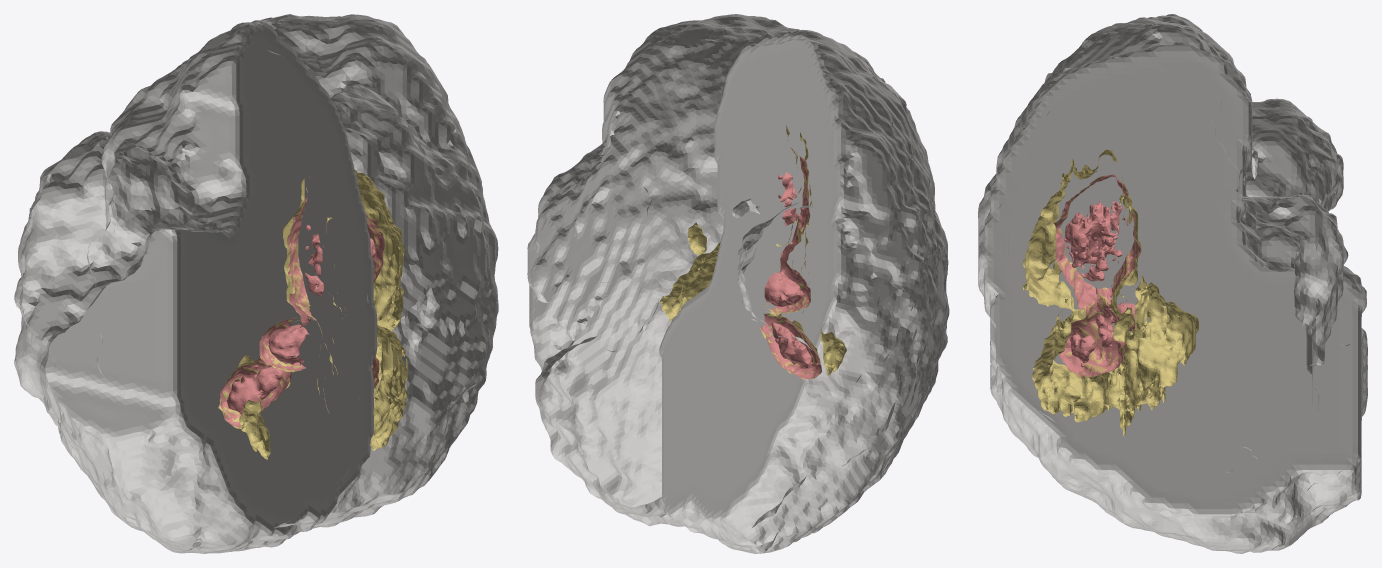
The picture shows the model from 3 angles, left to right: view 1: azimuth 30°, elevation 25°; view 2: azimuth 150°, elevation 25°; view 3: azimuth 270°, elevation 25°; orthographic projection. The views are drawn at different scales.
Visible parts, largest first — view 1: brain_left, brain_right, edema, enhancing, core; view 2: brain_left, brain_right, enhancing, edema, core; view 3: brain_right, edema, brain_left, enhancing, core.
Boxes of the visible parts, x1,y1,x2,y2 form: brain_left: (14,20,377,553); brain_right: (261,14,498,534); edema: (218,169,408,459); enhancing: (220,196,384,427); core: (220,196,384,426); brain_left: (659,30,949,553); brain_right: (527,14,799,526); enhancing: (761,147,821,379); edema: (659,125,846,379); core: (761,148,821,379); brain_right: (978,45,1367,553); edema: (1022,149,1198,436); brain_left: (978,14,1366,344); enhancing: (1054,175,1140,376); core: (1055,174,1140,377).
Size of the model in its own units: 142 by 178 by 128.
